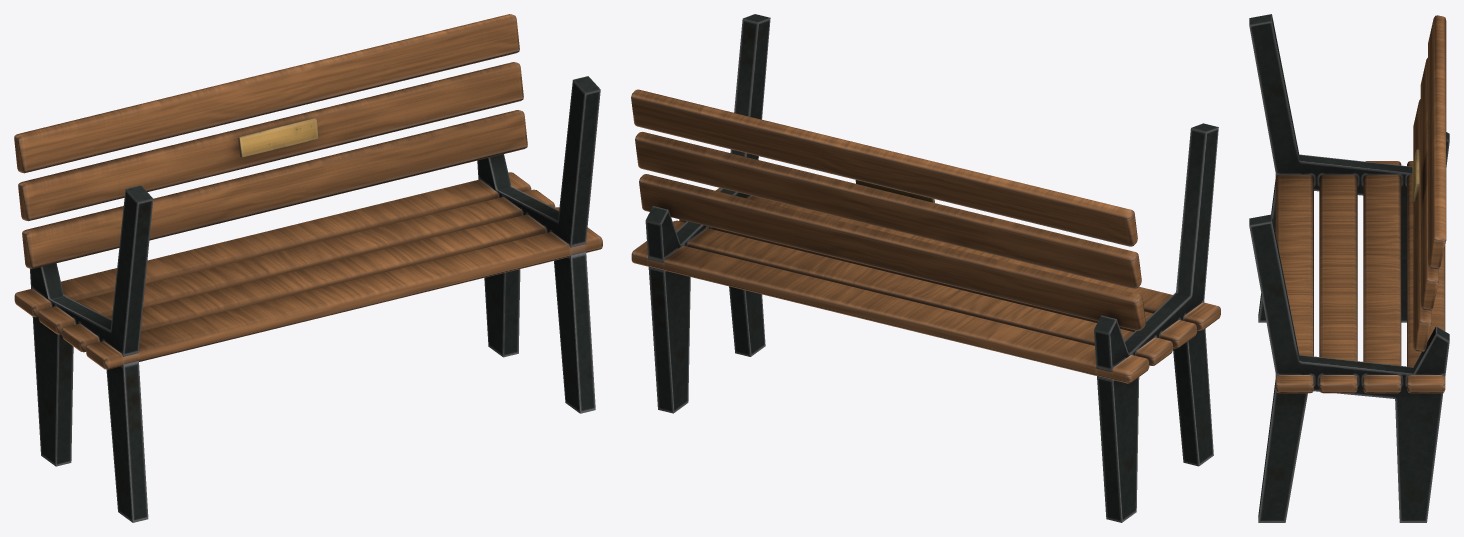
The model's file is WFBench.fbx.
3 views of the same model, side by side, from view 1: azimuth 30°, elevation 25°; view 2: azimuth 150°, elevation 25°; view 3: azimuth 270°, elevation 25° (orthographic). The views are drawn at different scales.
Parts seen in each view (by area): view 1: WFBench; view 2: WFBench; view 3: WFBench.
Boxes of the visible parts, x1,y1,x2,y2 form: WFBench: (14, 14, 602, 522); WFBench: (631, 14, 1220, 522); WFBench: (1249, 14, 1449, 522).
Size of the model in its own units: 580 by 365 by 220.
